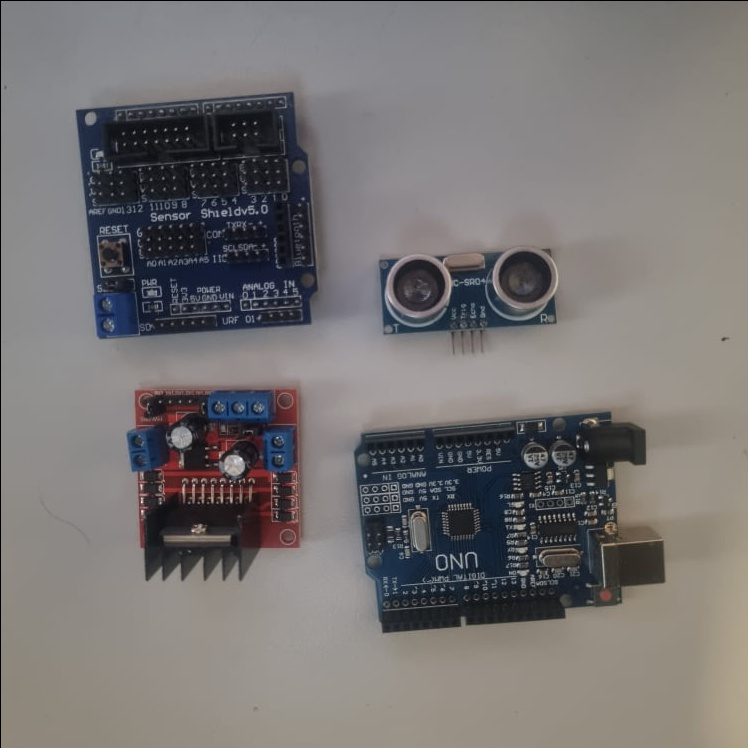5V EXPANSION: (74, 89, 315, 338)
MOTOR: (123, 386, 300, 581)
SENSOR: (371, 248, 560, 338)
UNO R3: (353, 411, 666, 632)
